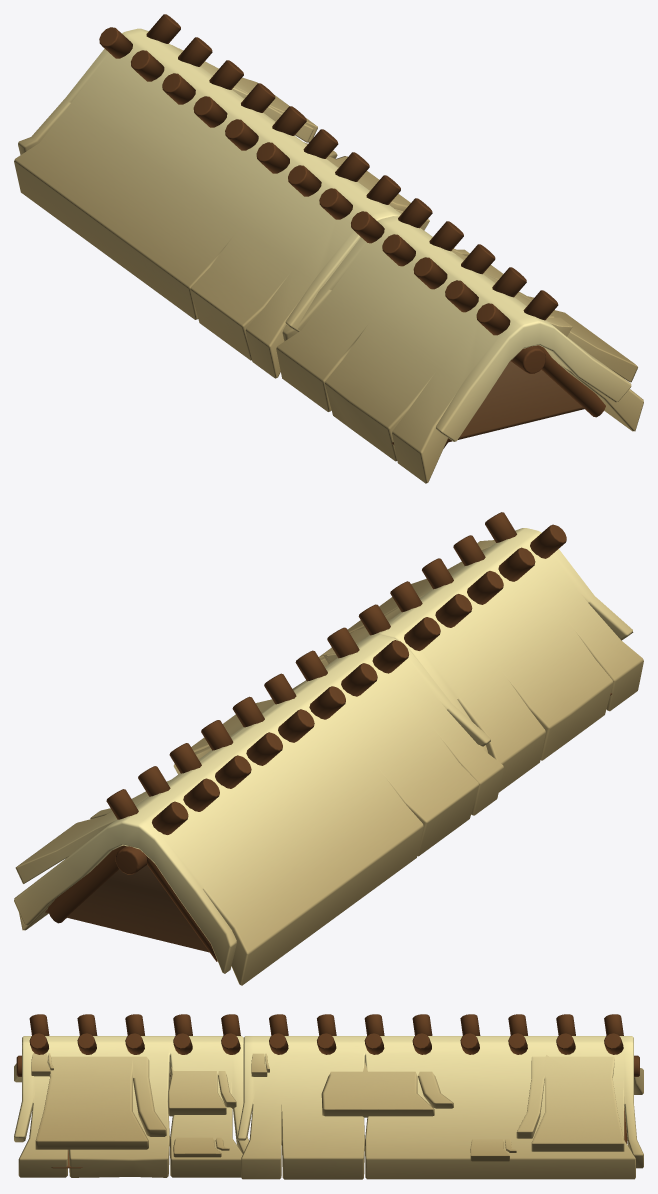
The model's file is SM_Clay_Roof_05.fbx.
3 views of the same model, one above another, from view 1: azimuth 30°, elevation 25°; view 2: azimuth 150°, elevation 25°; view 3: azimuth 270°, elevation 25° (orthographic). The views are drawn at different scales.
Visible parts, largest first — view 1: SM_Clay_Roof_05; view 2: SM_Clay_Roof_05; view 3: SM_Clay_Roof_05.
Part boxes in pixels (bbox=[...]): SM_Clay_Roof_05: bbox=[14, 14, 643, 483]; SM_Clay_Roof_05: bbox=[14, 512, 643, 985]; SM_Clay_Roof_05: bbox=[14, 1014, 643, 1179].
Bounding box in the file's own units: 1.05 × 0.6495 × 3.15.
